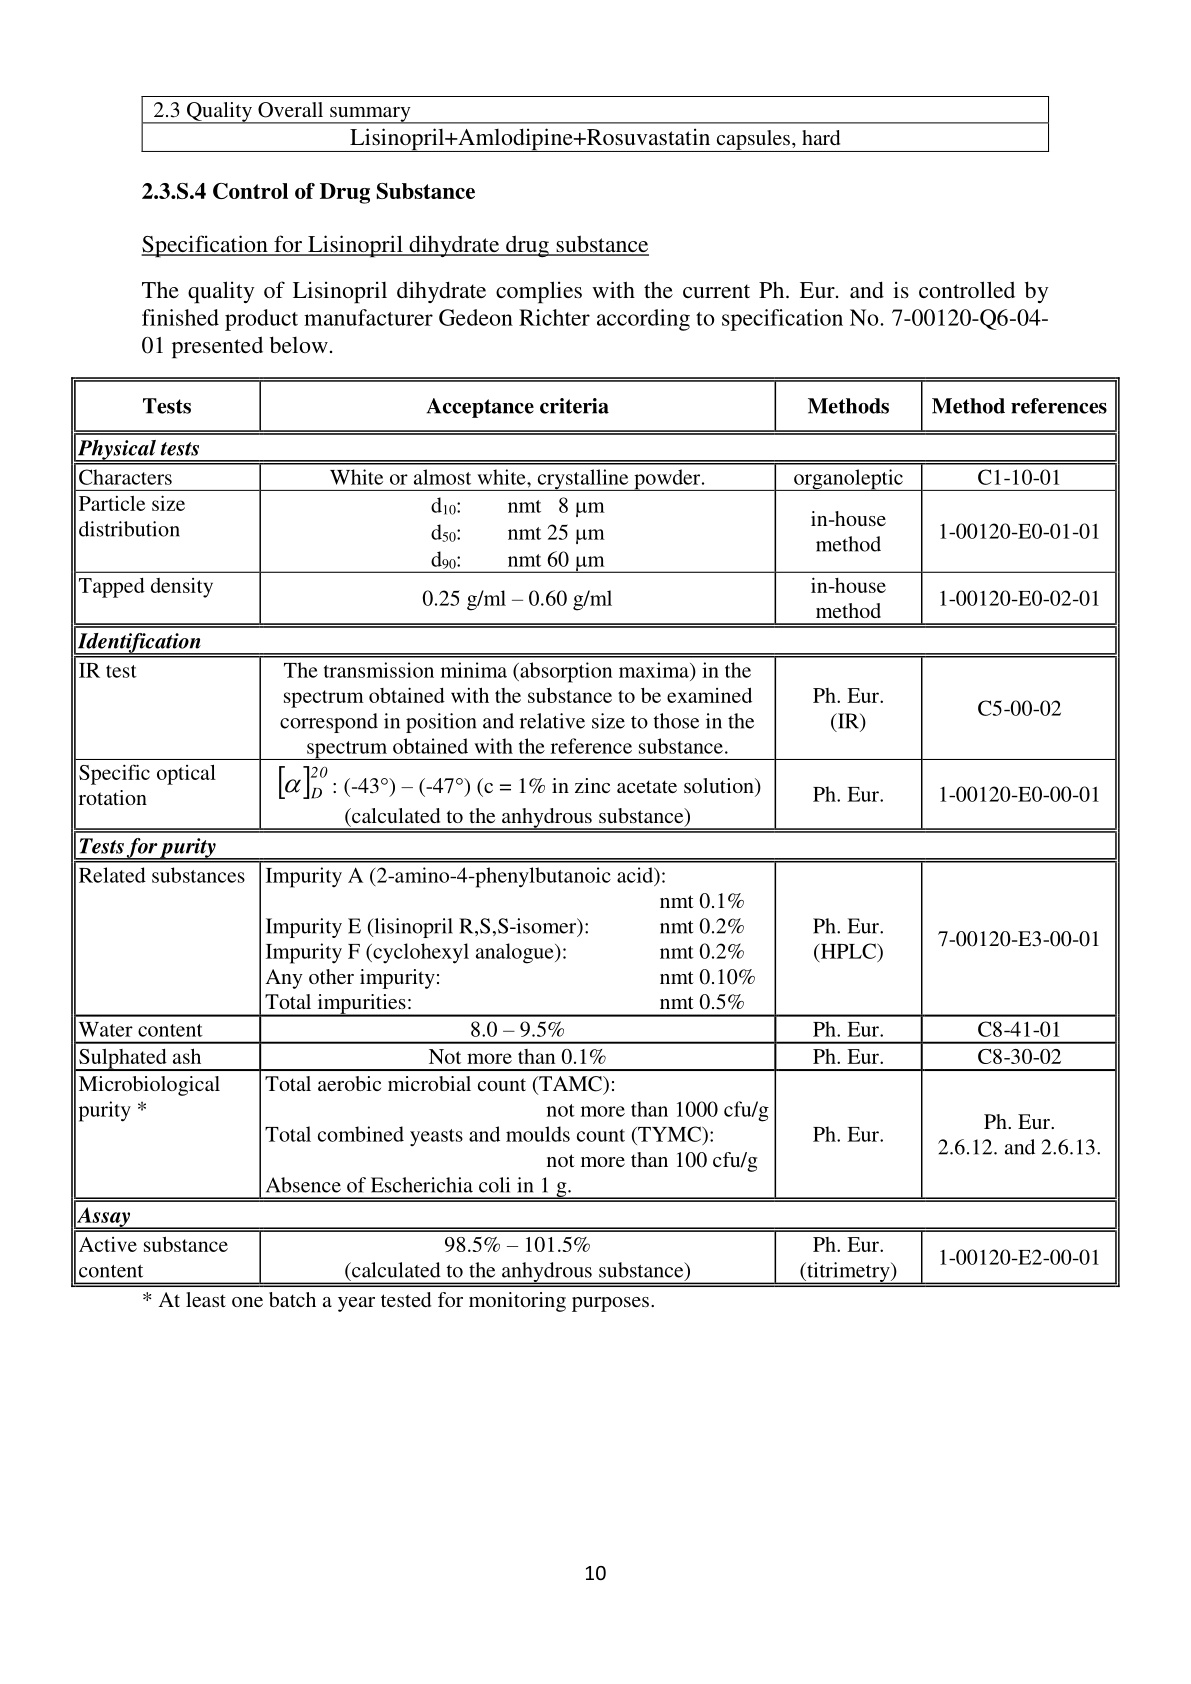full_lined: (140, 94, 1051, 153)
merged_cells: (70, 374, 1120, 1288)
